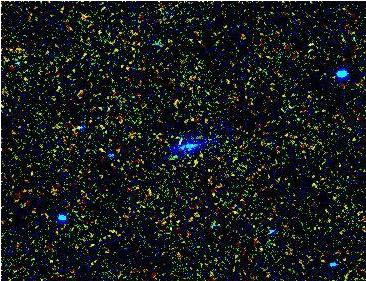star: (157, 142, 187, 172)
